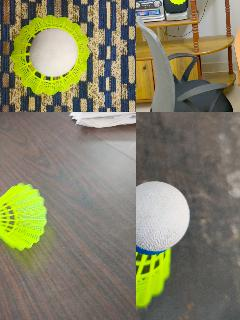shuttlecock: (136, 182, 190, 313), (10, 15, 88, 94), (0, 182, 46, 251), (167, 0, 187, 5)
